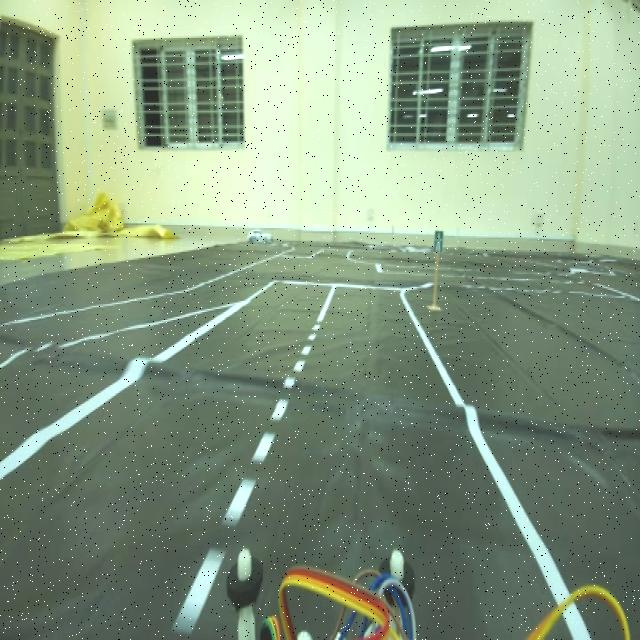highway_entry: (433, 220, 446, 262)
